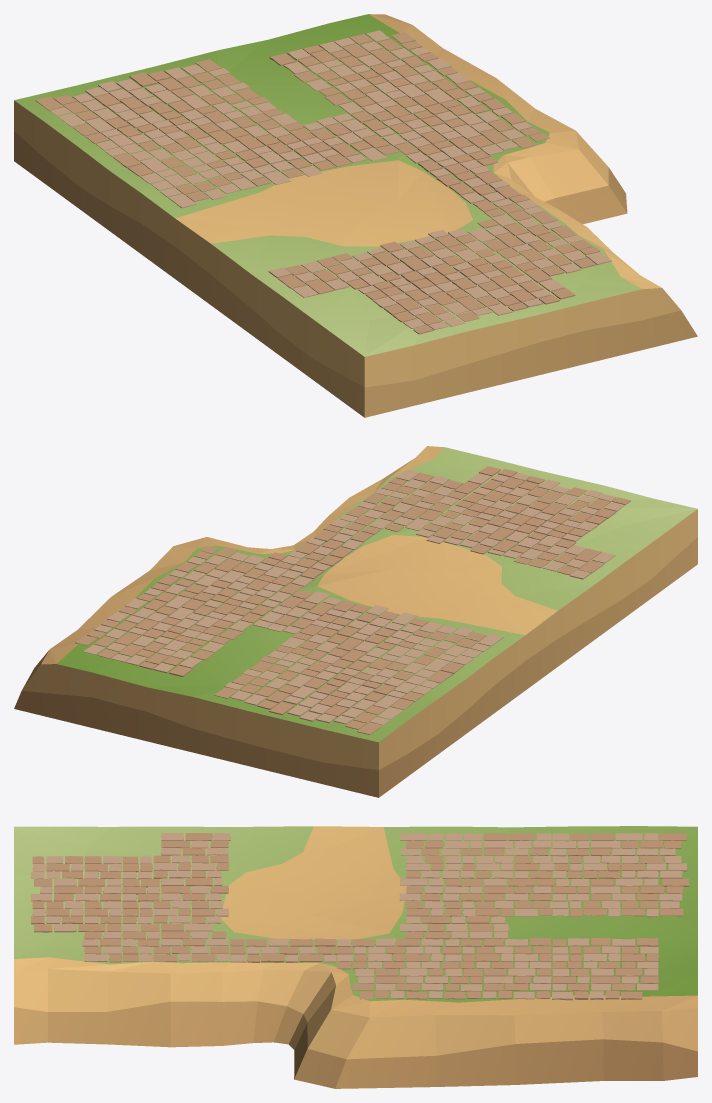
The model's file is land-pirate-seaport.glb.
3 views of the same model, one above another, from view 1: azimuth 30°, elevation 25°; view 2: azimuth 150°, elevation 25°; view 3: azimuth 270°, elevation 25° (orthographic). The views are drawn at different scales.
Parts seen in each view (by area): view 1: land pirate seaport; view 2: land pirate seaport; view 3: land pirate seaport.
Boxes of the visible parts, x1,y1,x2,y2 form: land pirate seaport: (14,14,697,417); land pirate seaport: (14,446,697,797); land pirate seaport: (14,826,697,1088).
Size of the model in its own units: 31.57 by 4.39 by 45.
Materials: 1 (1 with a texture image).
